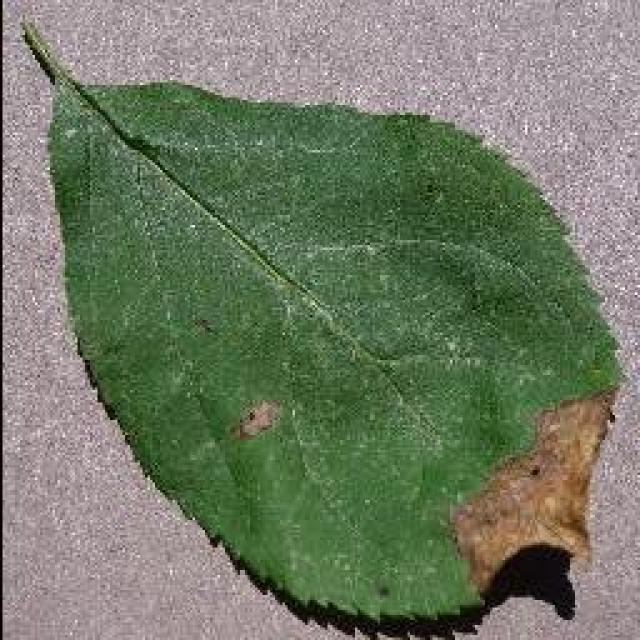apple black rot: (17, 12, 625, 638)
